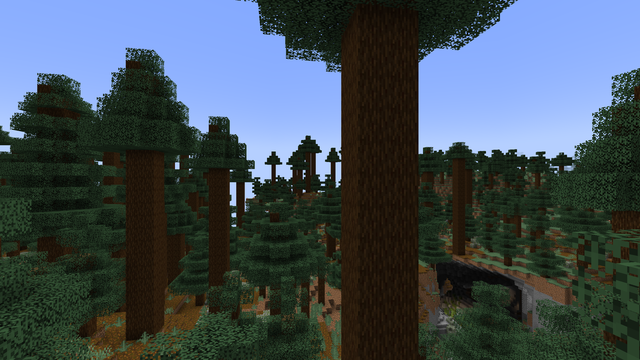zombies: (249, 304, 251, 310)
